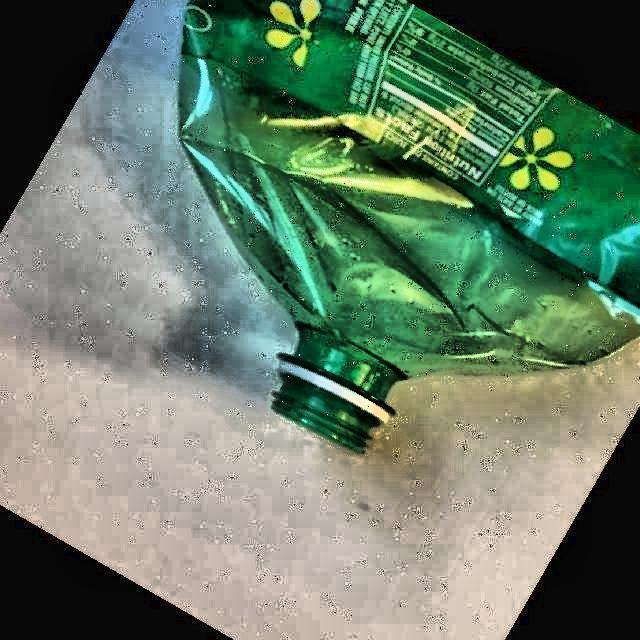plastic: (180, 0, 640, 444)
